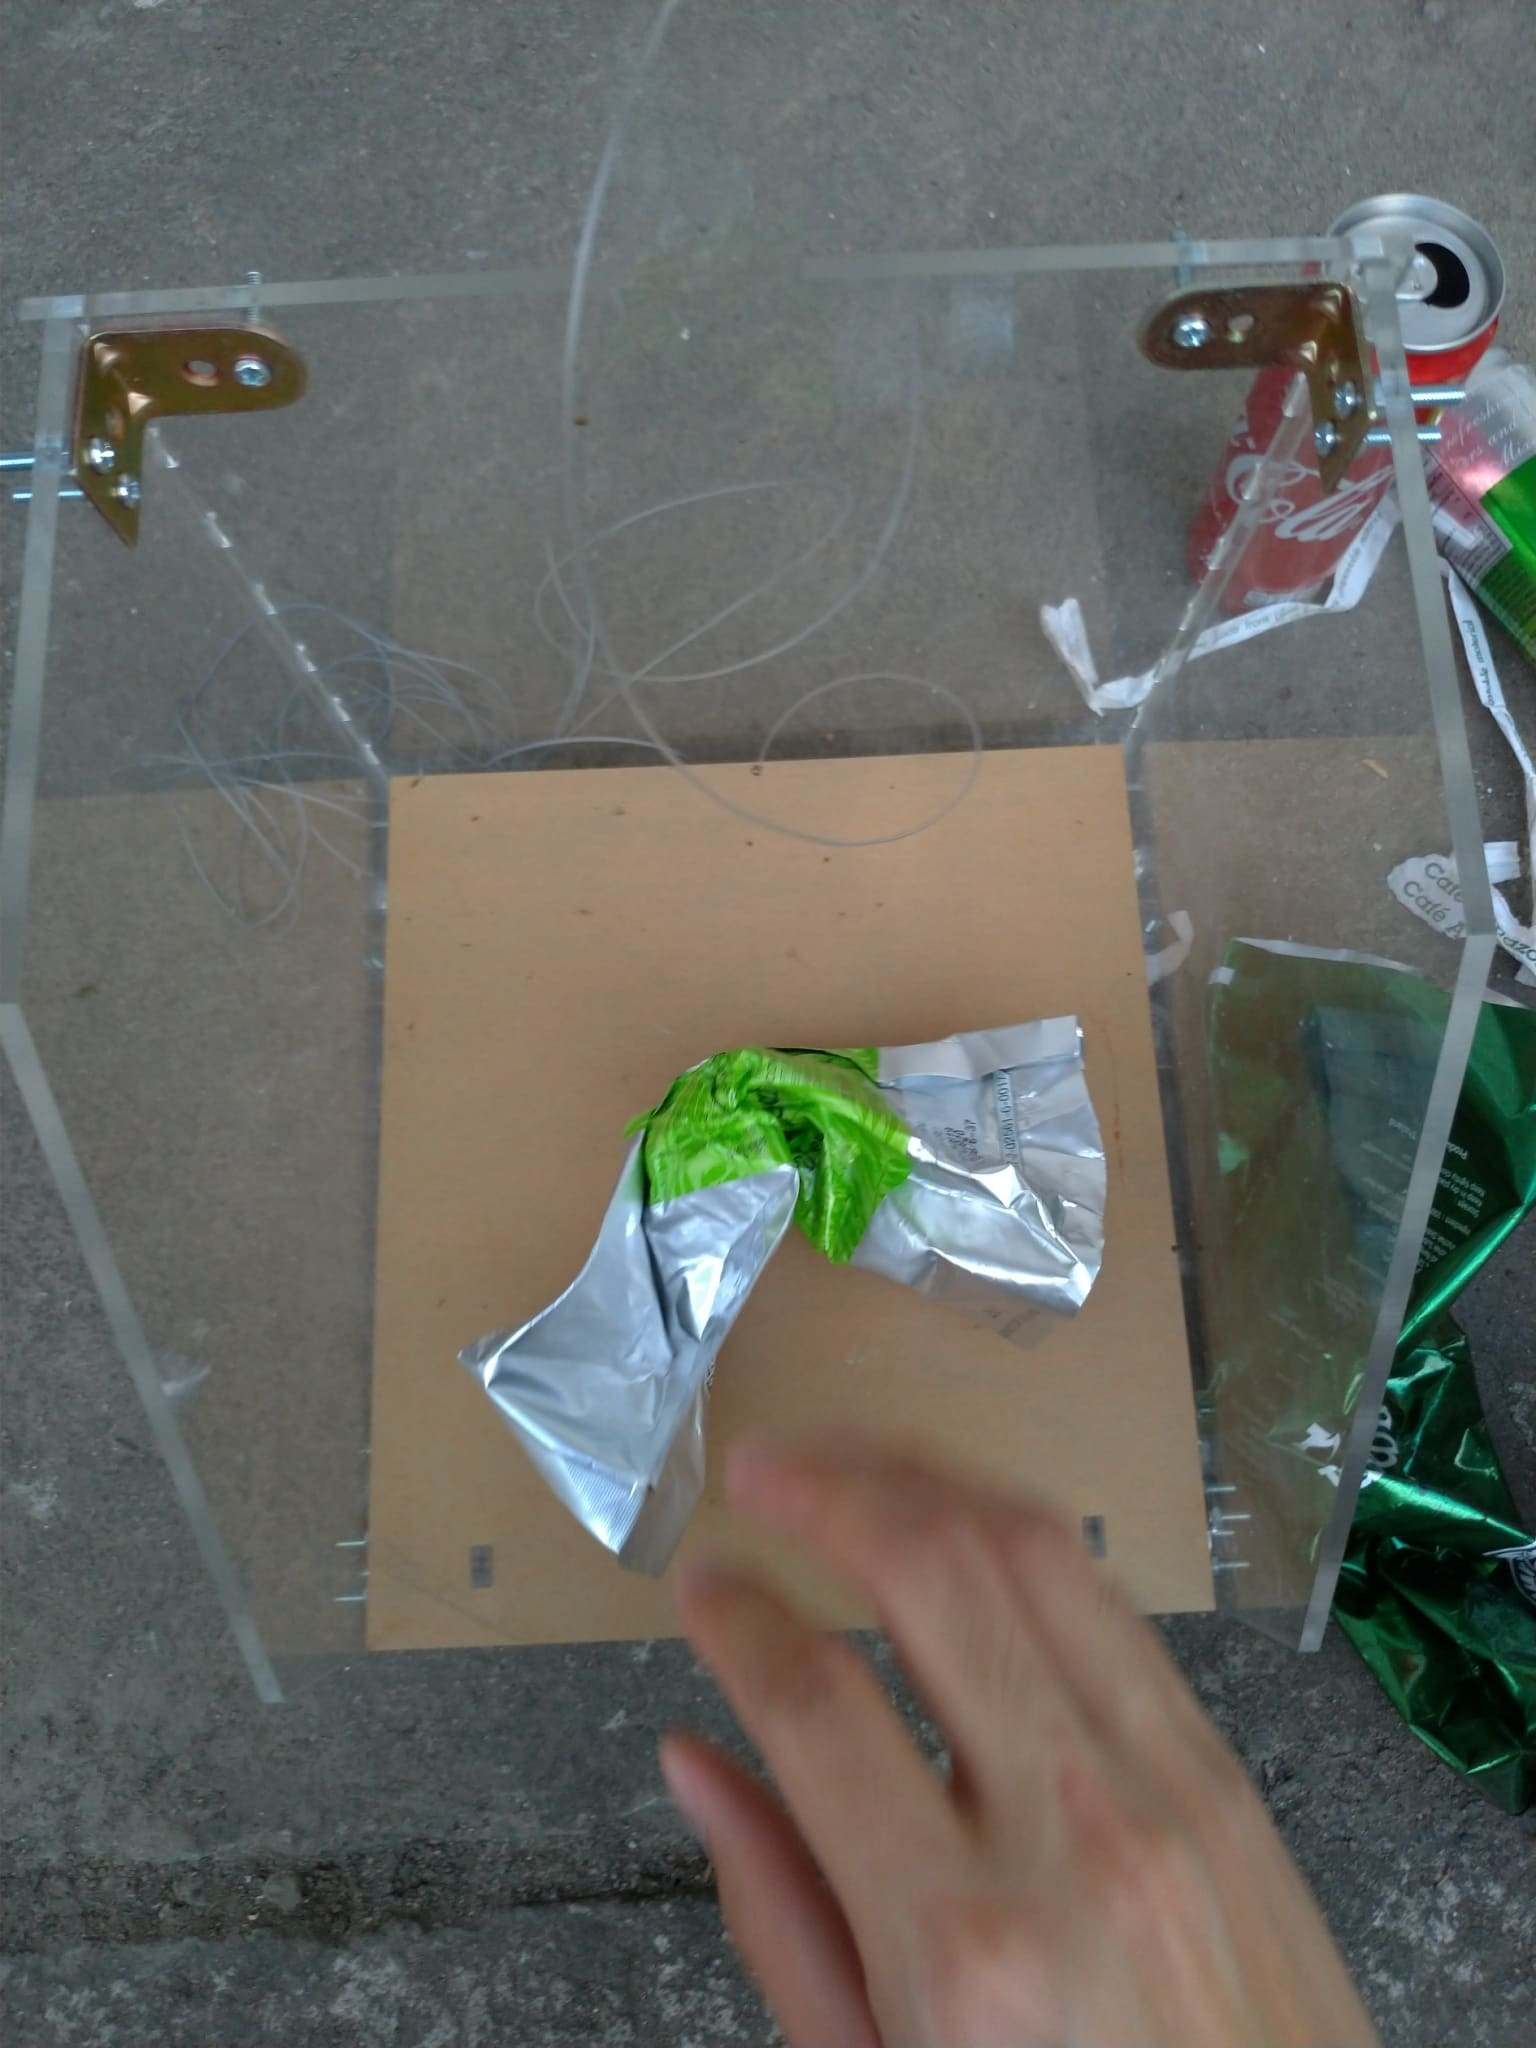AlCan: (1191, 194, 1505, 610)
Others: (445, 1013, 1112, 1577), (1191, 929, 1536, 1796), (1033, 500, 1391, 706), (1388, 558, 1534, 971)
